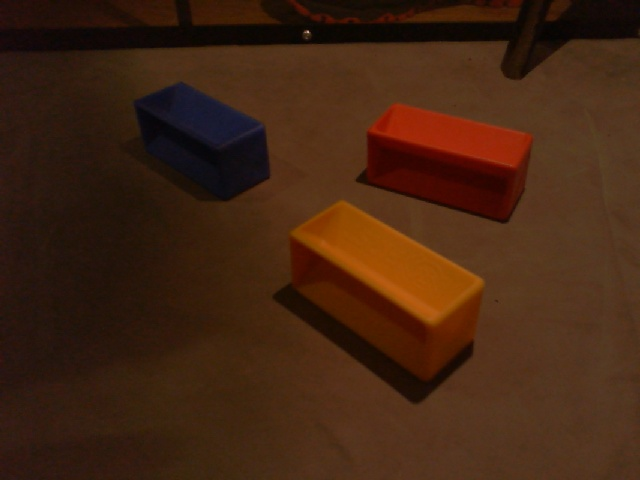BlueSample: (132, 79, 272, 205)
RedSample: (364, 100, 536, 226)
YellowSample: (287, 197, 485, 385)
